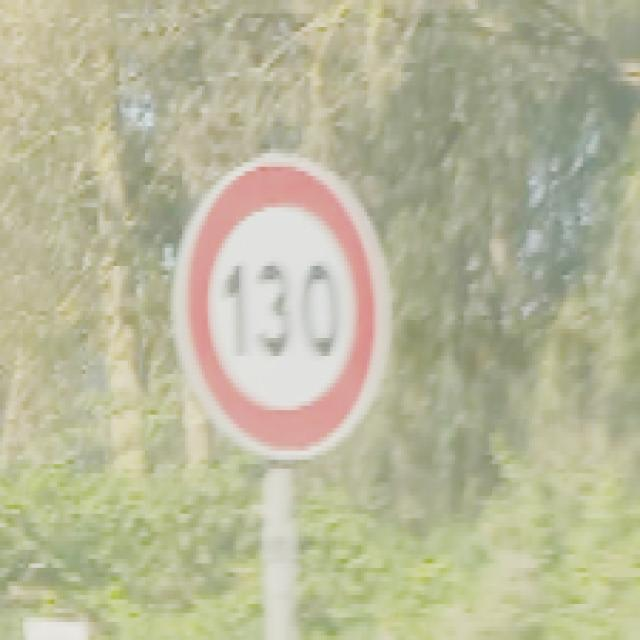speed_130: (170, 152, 394, 462)
